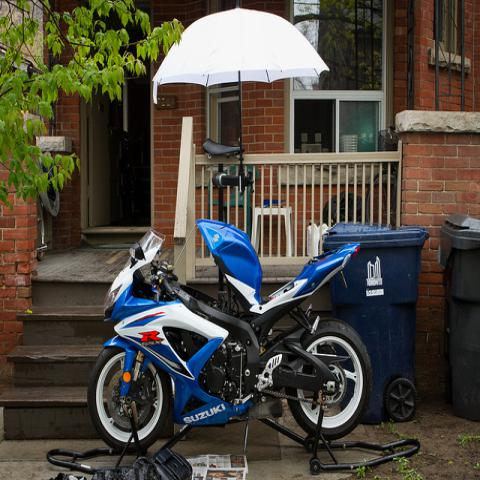motorcycle: (88, 218, 375, 458)
